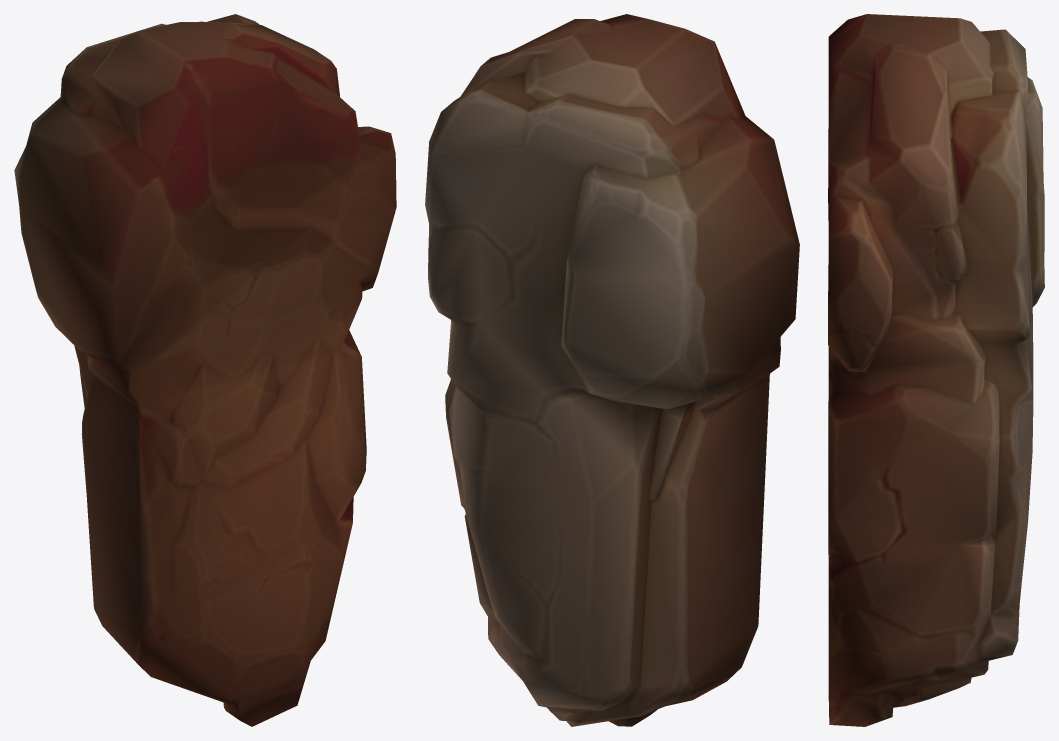
3 renders of one model, left to right at view 1: azimuth 30°, elevation 25°; view 2: azimuth 150°, elevation 25°; view 3: azimuth 270°, elevation 25°, orthographic. The views are drawn at different scales.
Visible parts, largest first — view 1: tu_01; view 2: tu_01; view 3: tu_01.
Boxes of the visible parts, x1,y1,x2,y2 form: tu_01: [14, 14, 396, 726]; tu_01: [425, 14, 799, 726]; tu_01: [828, 14, 1044, 726].
Size of the model in its own units: 1.56 by 3.41 by 0.9856.
1 material, 1 textured.
